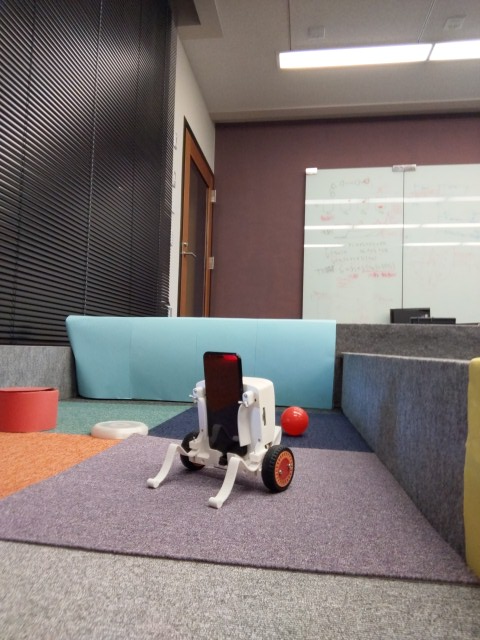f: (142, 340, 299, 519)
o: (89, 412, 152, 445)
